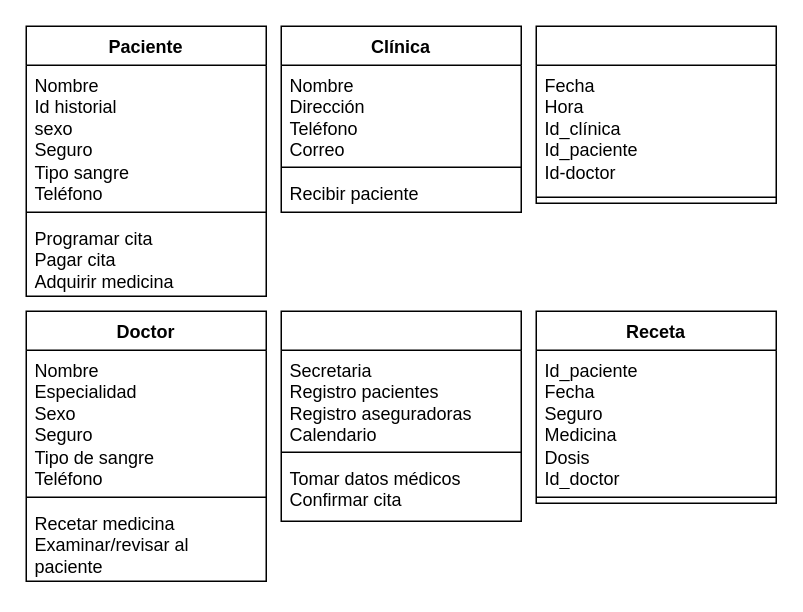
Image size: 803x612. Some labels were removed from this diagram. The box of each missing label's shape, as (x1, y1, x2, y2) in pixels:
Cita: (535, 25, 776, 203)
Recepción: (280, 310, 521, 521)
